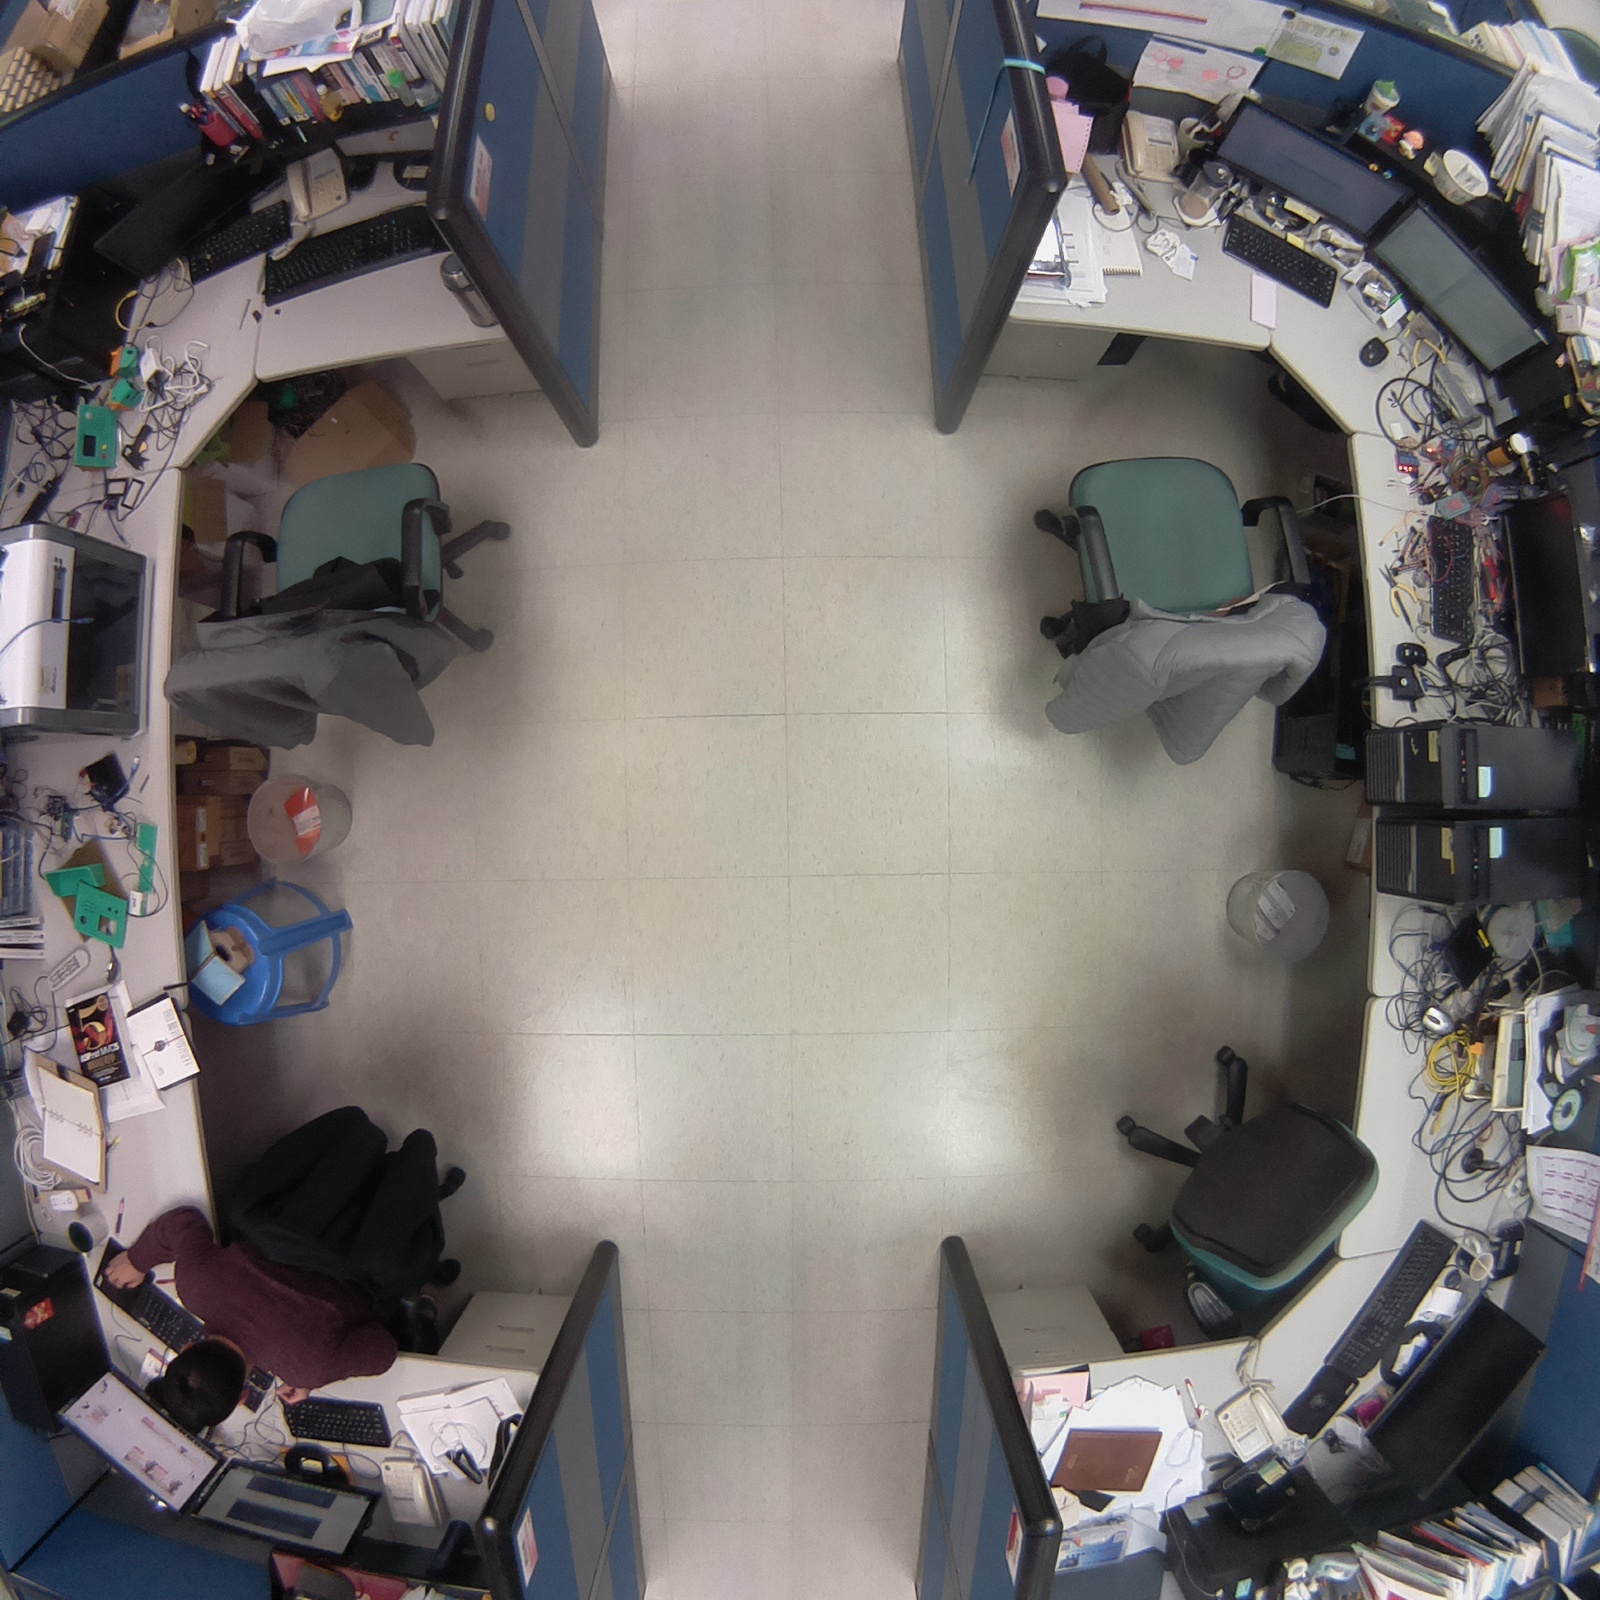chair: (141, 444, 527, 771), (1017, 440, 1344, 788), (1099, 1032, 1392, 1349)
sitting: (89, 1089, 497, 1451)
